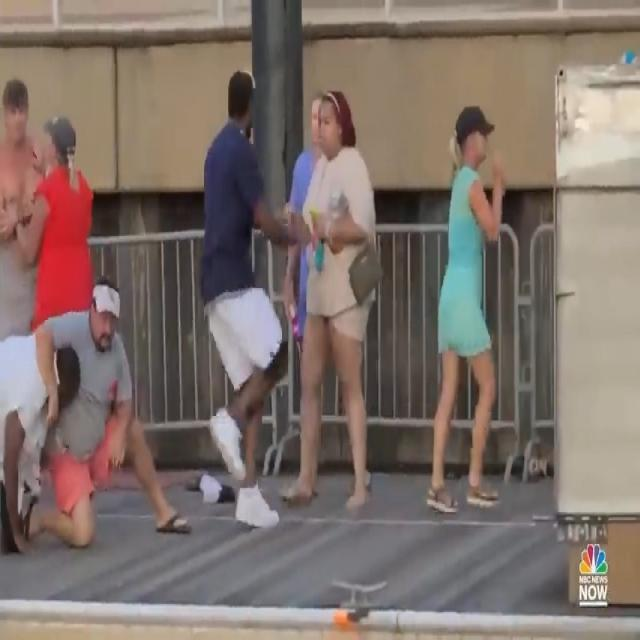fight: (0, 270, 190, 578)
non-fight: (194, 42, 514, 529), (0, 68, 93, 272)
